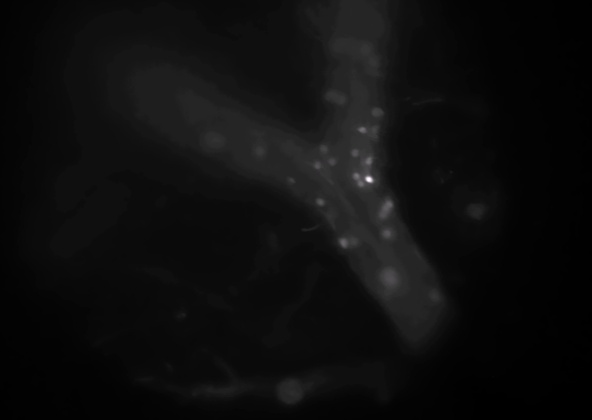cell: (362, 172, 376, 186), (356, 123, 370, 137), (370, 104, 384, 118), (349, 146, 363, 160), (361, 154, 375, 168), (316, 141, 330, 155), (311, 159, 325, 173), (325, 154, 339, 168), (325, 90, 339, 104), (350, 169, 364, 183), (335, 92, 349, 106), (353, 177, 367, 191), (337, 236, 351, 250), (382, 272, 396, 286), (380, 227, 394, 241), (381, 197, 395, 211), (376, 204, 390, 218), (377, 202, 391, 216), (312, 195, 326, 209), (348, 234, 362, 248), (286, 174, 300, 188), (252, 145, 266, 159), (207, 134, 221, 148), (428, 289, 442, 303), (360, 43, 374, 57), (369, 53, 383, 67), (334, 40, 348, 54), (368, 130, 382, 144)
